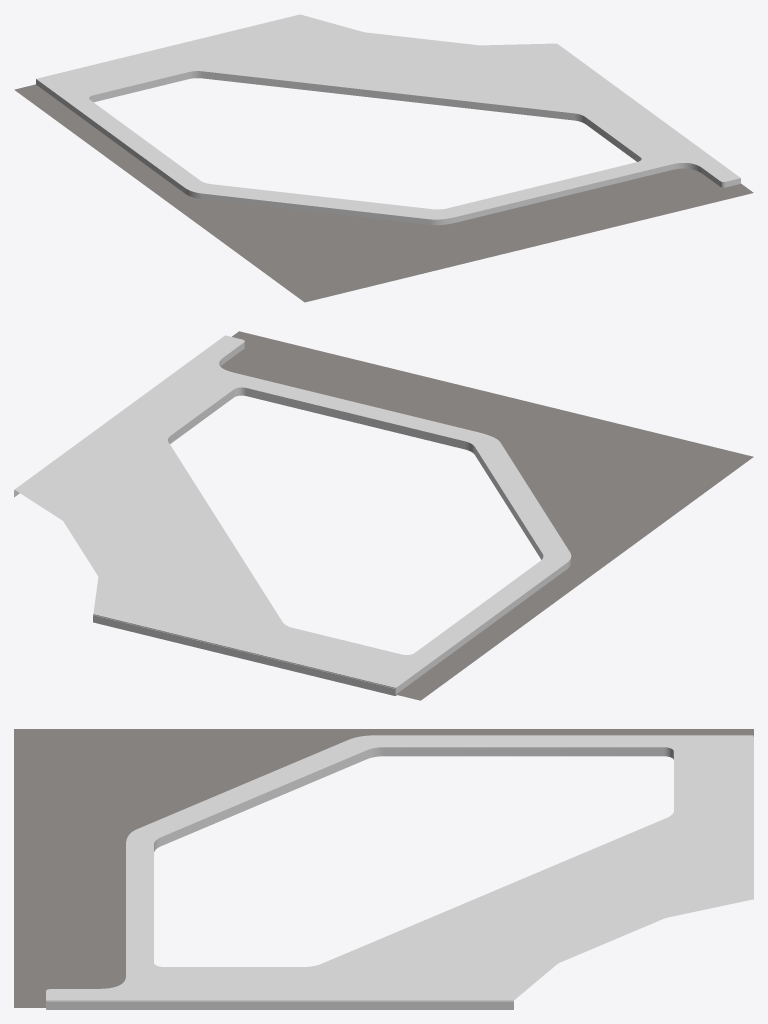
Rendered from MMo_C_001_f_32x36.fbx.
The picture shows the model from 3 angles, top to bottom: view 1: azimuth 30°, elevation 25°; view 2: azimuth 150°, elevation 25°; view 3: azimuth 270°, elevation 25°; orthographic projection. The views are drawn at different scales.
Visible parts, largest first — view 1: MMo_C_001_f_32x36; view 2: MMo_C_001_f_32x36; view 3: MMo_C_001_f_32x36.
Part boxes in pixels (left/top/right/bottom): MMo_C_001_f_32x36: left=14, top=14, right=753, bottom=302; MMo_C_001_f_32x36: left=14, top=331, right=753, bottom=700; MMo_C_001_f_32x36: left=14, top=729, right=753, bottom=1009.
Bounding box in the file's own units: 33 × 0.5 × 37.
